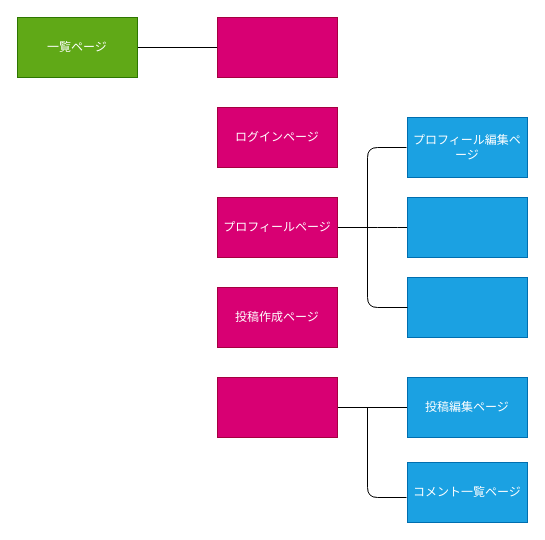
Image size: 545x540. Some labels were removed from this diagram. The centre of each missing label's shape, as x and y in pixels:
"フォロワー一覧ページ" goes at (x=467, y=307).
"フォロー一覧ページ" goes at (x=467, y=227).
"投稿詳細ページ" goes at (x=277, y=407).
"新規登録ページ" goes at (x=277, y=47).
